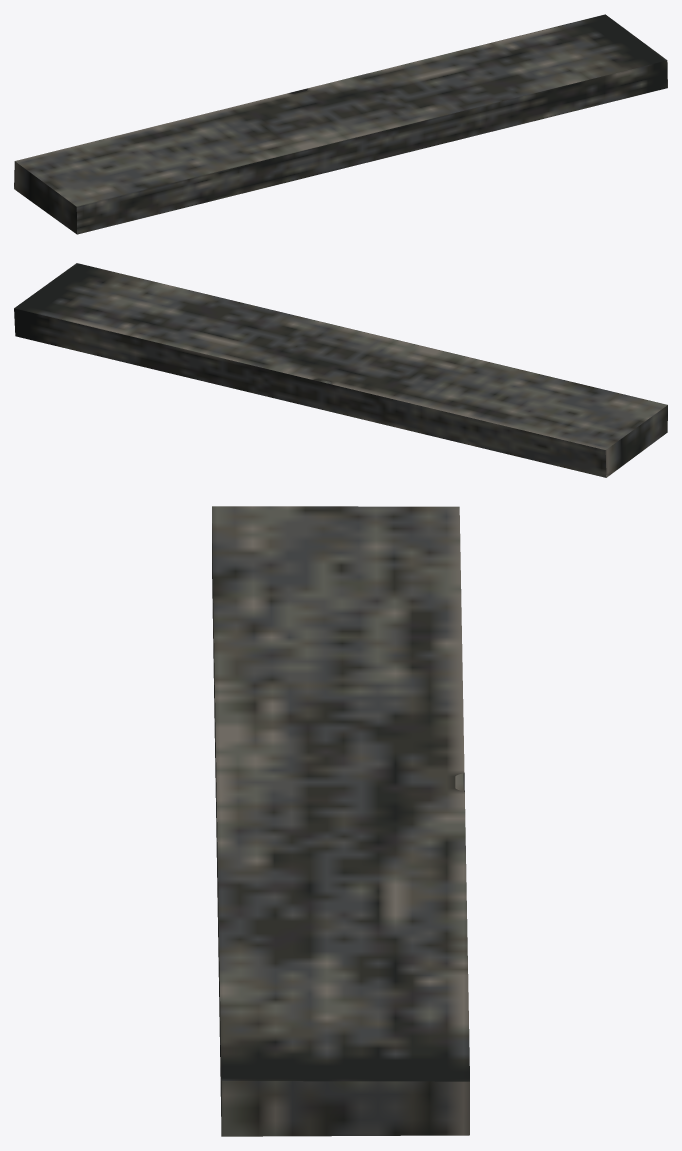
The model's file is SM_EC_Fence_00.002.fbx.
3 views of the same model, one above another, from view 1: azimuth 30°, elevation 25°; view 2: azimuth 150°, elevation 25°; view 3: azimuth 270°, elevation 25° (orthographic). The views are drawn at different scales.
Visible parts, largest first — view 1: SM_EC_Fence_00.002; view 2: SM_EC_Fence_00.002; view 3: SM_EC_Fence_00.002.
Boxes of the visible parts, x1,y1,x2,y2 form: SM_EC_Fence_00.002: (14,14,667,234); SM_EC_Fence_00.002: (14,263,667,477); SM_EC_Fence_00.002: (212,506,469,1136).
Bounding box in the file's own units: 1.49 × 0.2826 × 0.0667.
